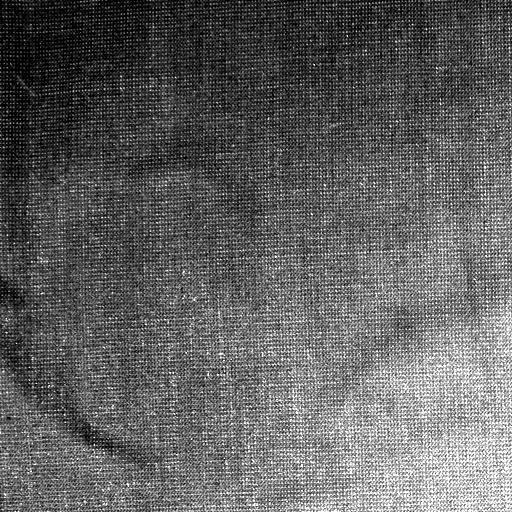fabric_perfect: (3, 4, 512, 506)
